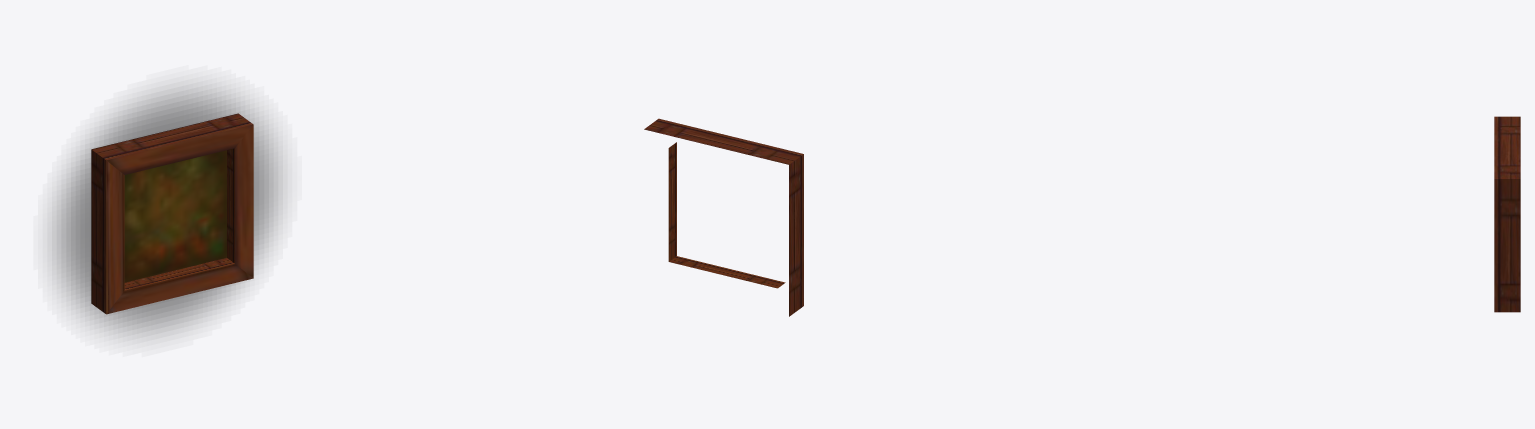
File: prop_tree_DG_ul.glb
The picture shows the model from 3 angles, left to right: view 1: azimuth 30°, elevation 25°; view 2: azimuth 150°, elevation 25°; view 3: azimuth 270°, elevation 25°; orthographic projection. The views are drawn at different scales.
Visible parts, largest first — view 1: tree_planter_woodbox_ul, shadow_DG_tree_ul; view 2: tree_planter_woodbox_ul; view 3: tree_planter_woodbox_ul.
Boxes of the visible parts, x1,y1,x2,y2 form: tree_planter_woodbox_ul: [91, 113, 253, 314]; shadow_DG_tree_ul: [52, 85, 282, 337]; tree_planter_woodbox_ul: [644, 118, 803, 316]; tree_planter_woodbox_ul: [1494, 116, 1520, 312].
Bounding box in the file's own units: 9.86 × 9.86 × 13.98.
Materials: 4 (4 with a texture image).
